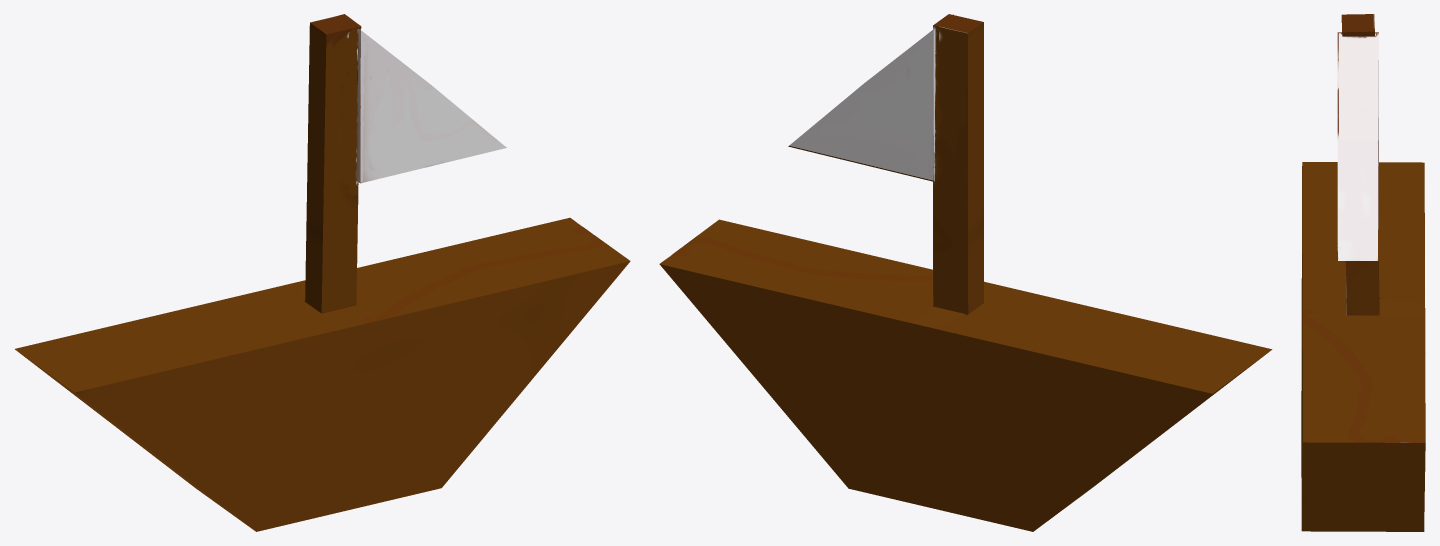
The model's file is barquitopint.fbx.
3 renders of one model, left to right at view 1: azimuth 30°, elevation 25°; view 2: azimuth 150°, elevation 25°; view 3: azimuth 270°, elevation 25°, orthographic. The views are drawn at different scales.
Parts seen in each view (by area): view 1: Cube.001; view 2: Cube.001; view 3: Cube.001.
Boxes of the visible parts, x1=… form: Cube.001: x1=15, y1=14, x2=630, y2=531; Cube.001: x1=659, y1=14, x2=1272, y2=531; Cube.001: x1=1301, y1=14, x2=1425, y2=531.
Size of the model in its own units: 6 by 4.77 by 1.14.
Materials: 1 (1 with a texture image).
